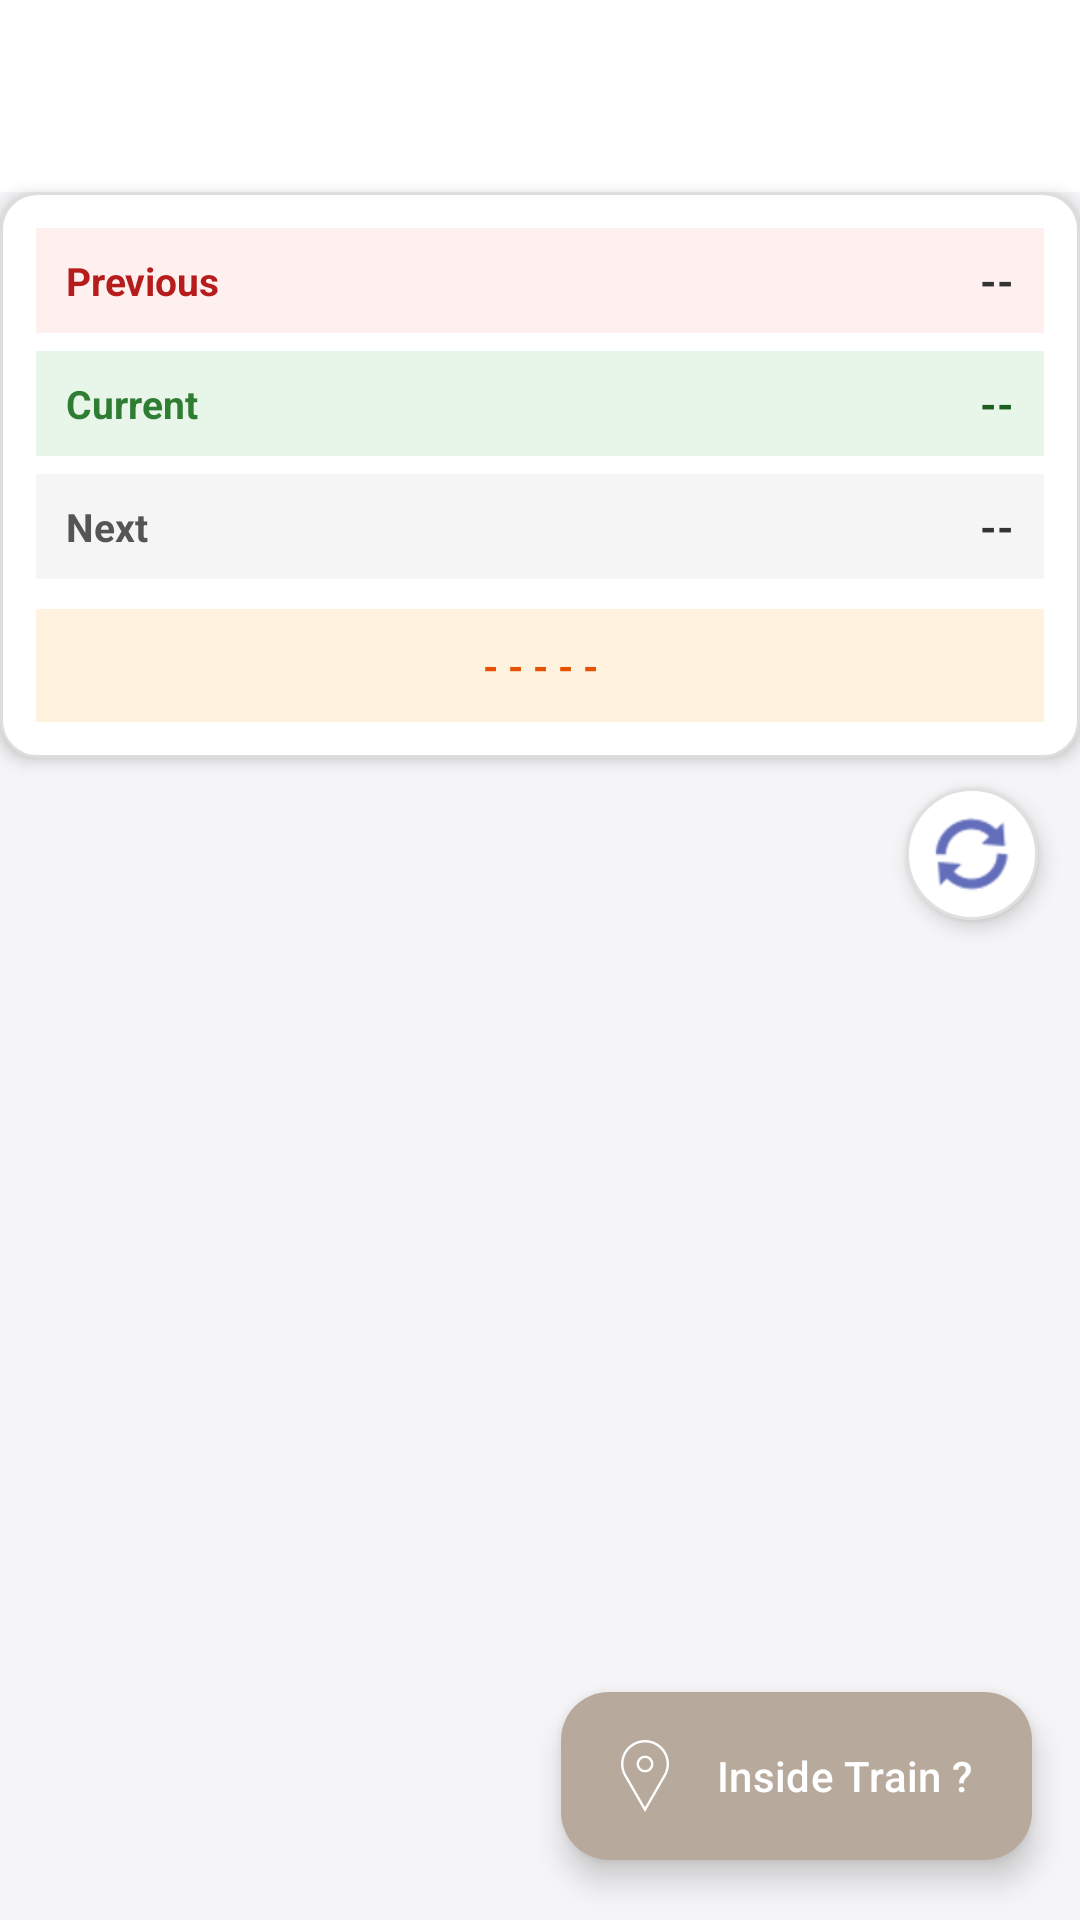

Screen size 1080x1920. Icon name, then its center in pixels as (x,y):
Refresh tracking: (972,854)
